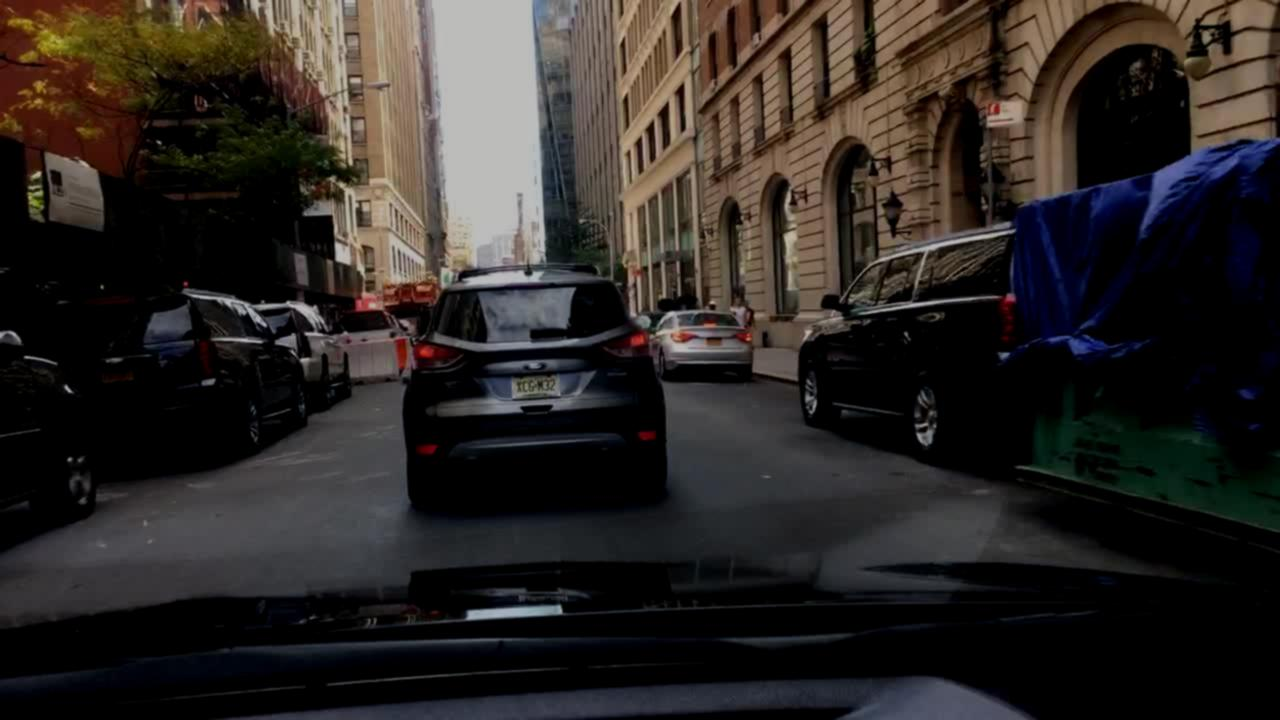chevrolet: (102, 355, 128, 369)
ford: (522, 358, 550, 374)
